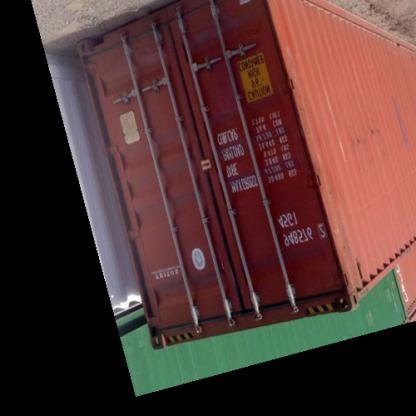Damage: (195, 64, 233, 120), (386, 92, 408, 156), (352, 127, 379, 147)
